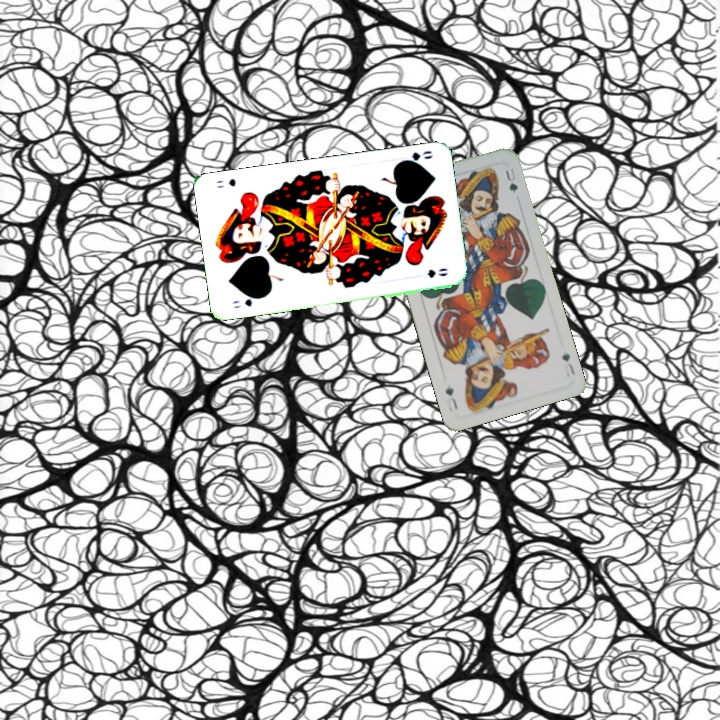GO: (395, 147, 435, 167), (228, 292, 265, 311)
GU: (558, 350, 578, 379)
